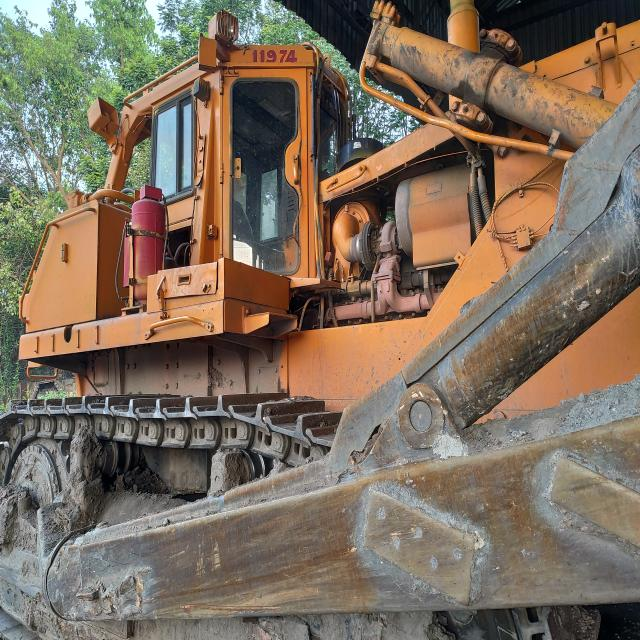buldozerpayloadergrader: (0, 0, 640, 638)
